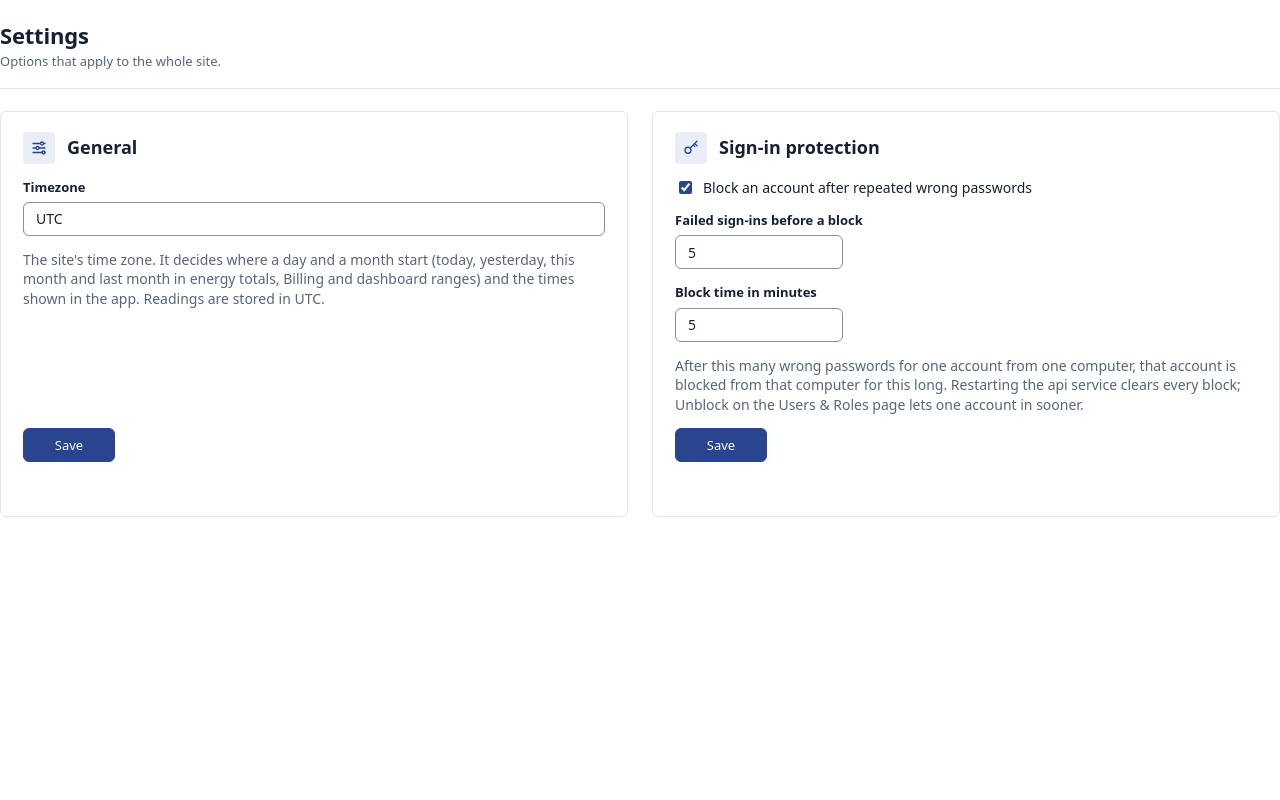
Test: SettingsPage sign-in protection switch › switching off shows the warning at once, but Save asks first and sends nothing yet
Click the switch labelled "Block an account after repeated wrong passwords" at (686,188), box [679,181,692,194]
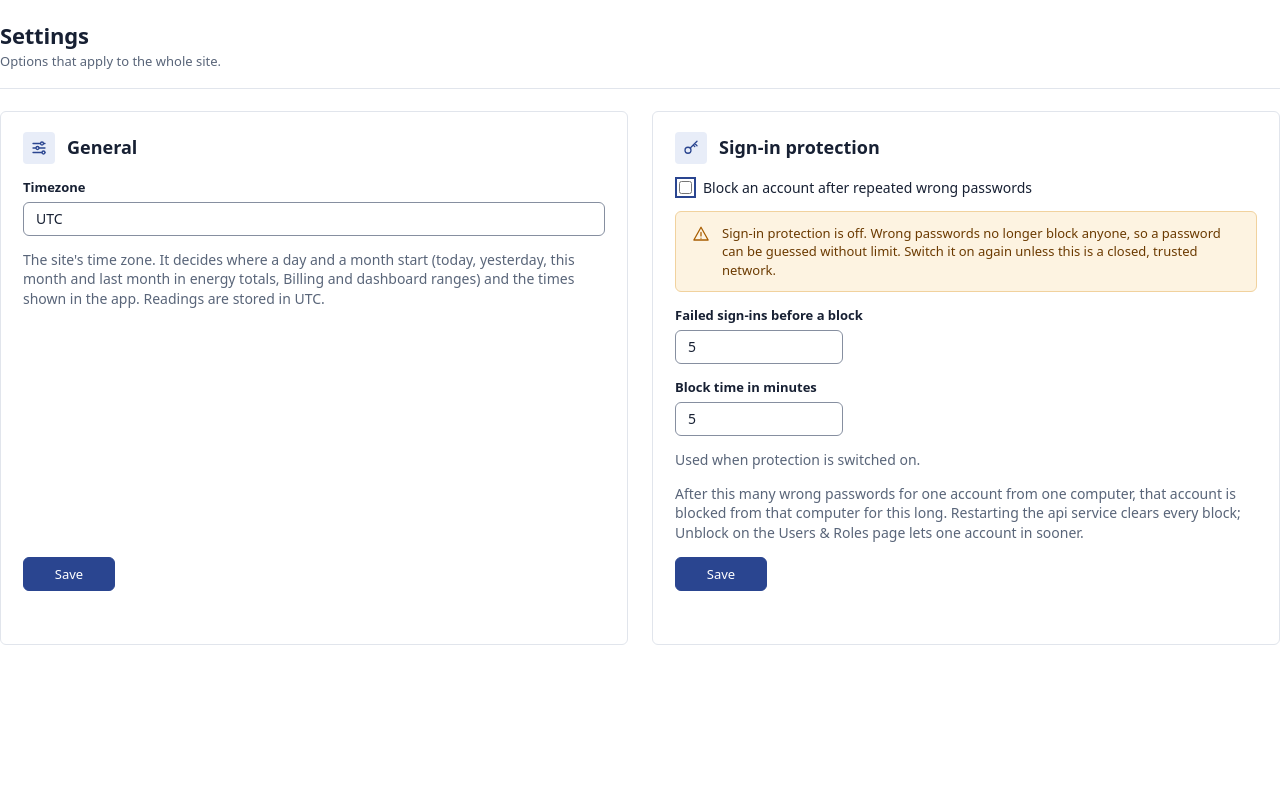
Check: the switch labelled "Block an account after repeated wrong passwords" is not checked, box [679,181,692,194]
Check: the text "Sign-in protection is off. Wrong passwords no longer block anyone" is shown, box [722,224,1221,279]
Click the button with aria-label "Save sign-in protection" at (721,574), box [675,557,767,591]
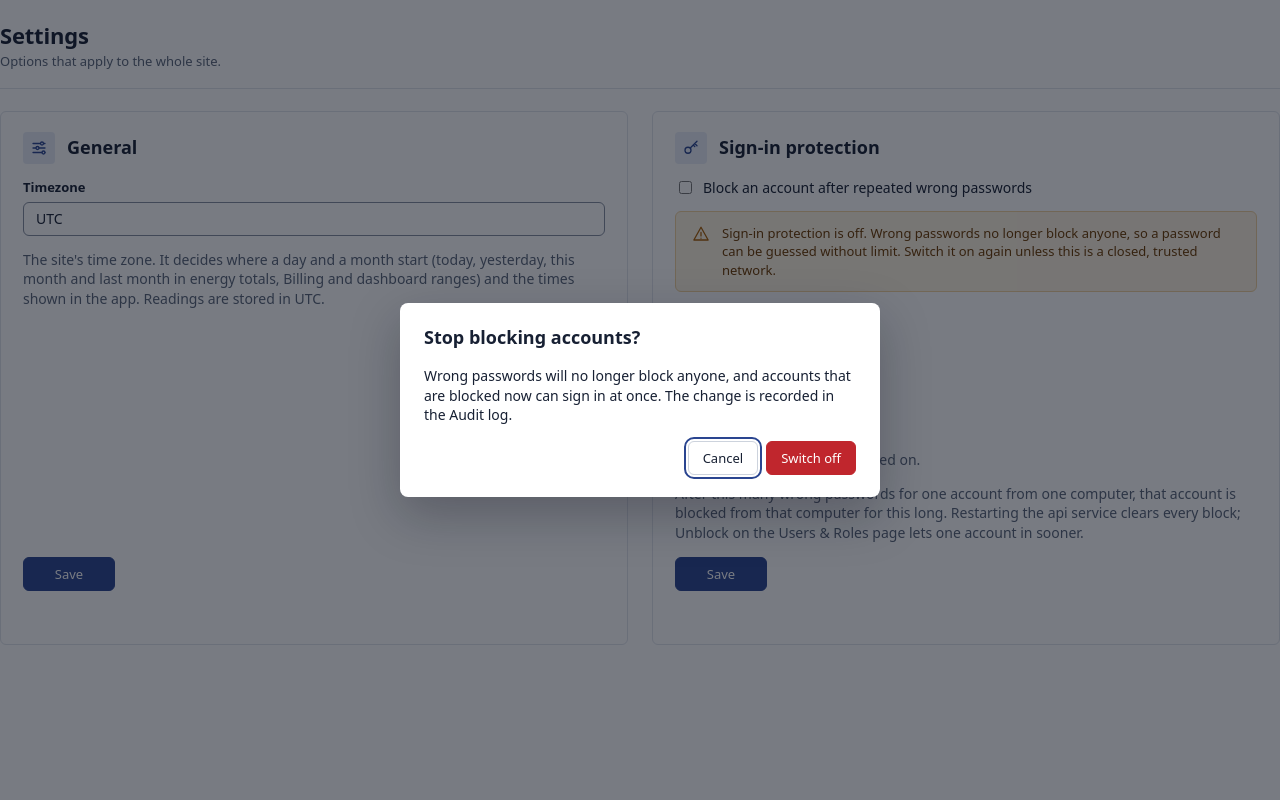
Check: the heading "Stop blocking accounts?" is shown, box [424,325,640,349]
Check: the dialog "Stop blocking accounts?" shows "Wrong passwords will no longer block anyone, and accounts that are blocked now can sign in at once. The change is recorded in the Audit log.", box [424,366,851,424]
